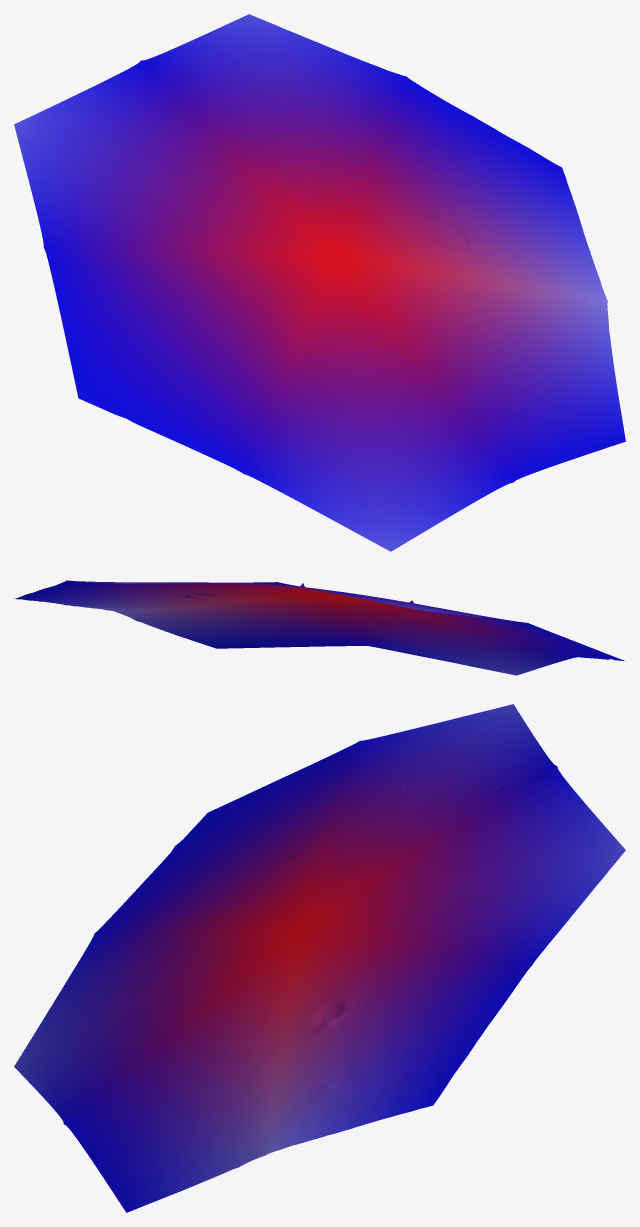
File: Hex_01.fbx
3 views of the same model, one above another, from view 1: azimuth 30°, elevation 25°; view 2: azimuth 150°, elevation 25°; view 3: azimuth 270°, elevation 25° (orthographic). The views are drawn at different scales.
Visible parts, largest first — view 1: Hex_01; view 2: Hex_01; view 3: Hex_01.
Boxes of the visible parts, x1,y1,x2,y2 form: Hex_01: [14, 14, 625, 551]; Hex_01: [14, 580, 625, 675]; Hex_01: [14, 704, 625, 1212].
Size of the model in its own units: 498 by 238 by 430.
